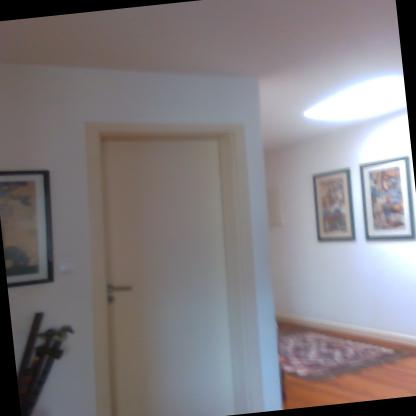closed: (71, 102, 289, 415)
